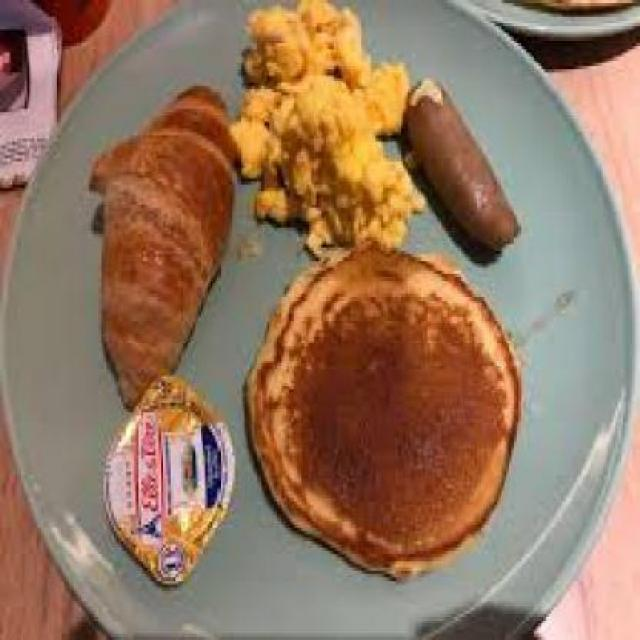hot dog: (397, 72, 521, 248)
pancakes: (242, 243, 522, 574)
